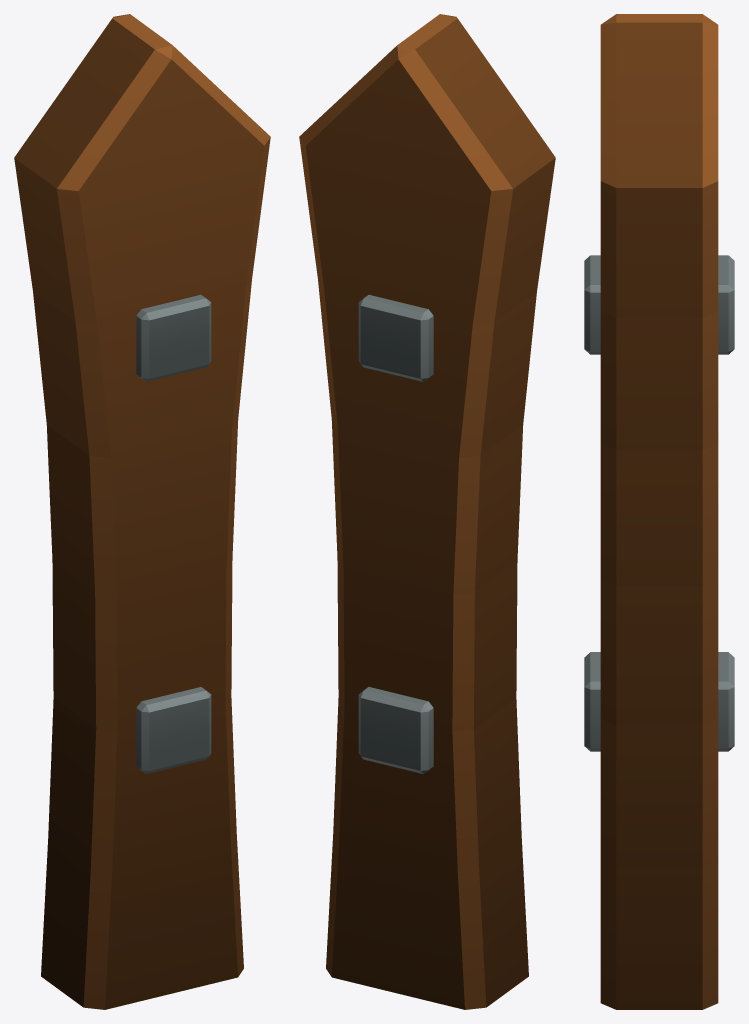
Rendered from Fence-1-3.fbx.
3 renders of one model, left to right at view 1: azimuth 30°, elevation 25°; view 2: azimuth 150°, elevation 25°; view 3: azimuth 270°, elevation 25°, orthographic.
Visible parts, largest first — view 1: Fence-1-3; view 2: Fence-1-3; view 3: Fence-1-3.
Boxes of the visible parts, <box> form: Fence-1-3: <box>14,14,270,1009</box>; Fence-1-3: <box>299,14,555,1009</box>; Fence-1-3: <box>584,14,734,1009</box>.
Bounding box in the file's own units: 39.37 × 165 × 23.63.
